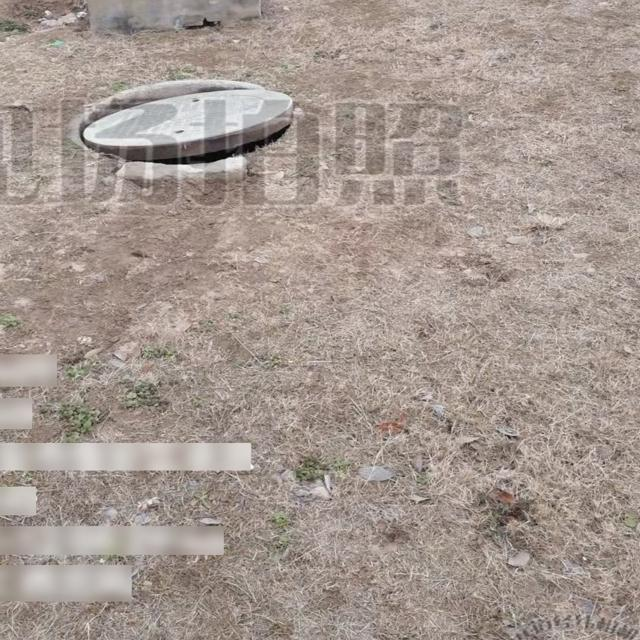uncovered: (73, 74, 299, 167)
